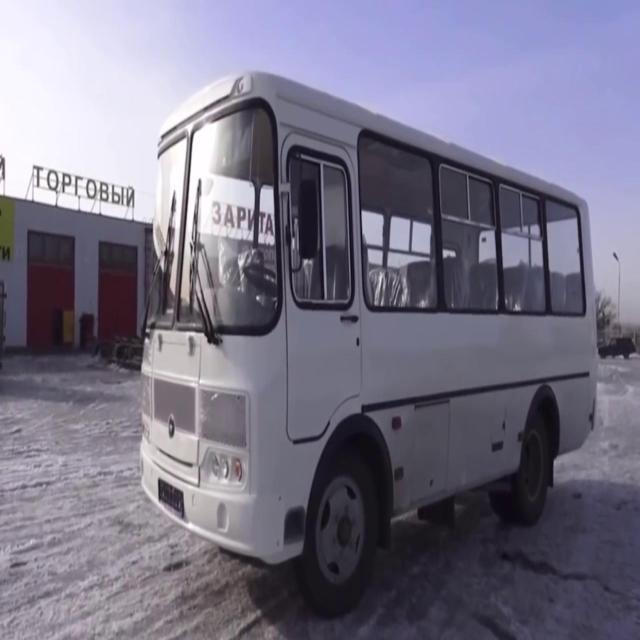Bus: (140, 64, 601, 603)
